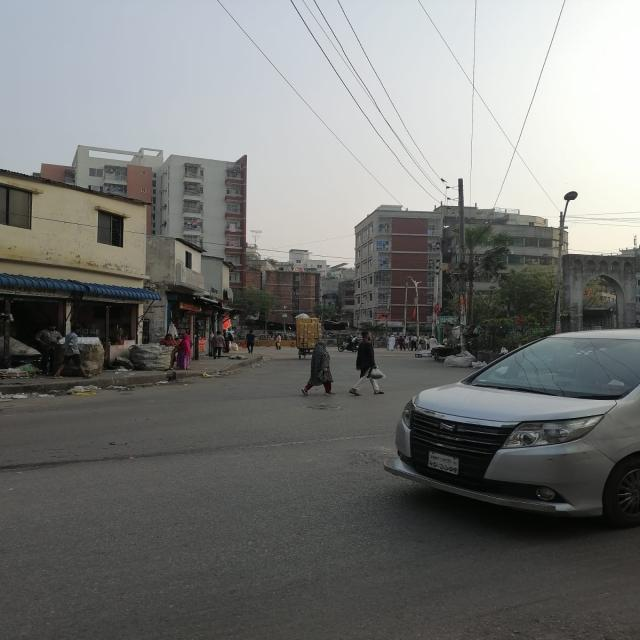person: (349, 331, 383, 396), (302, 340, 334, 396)
